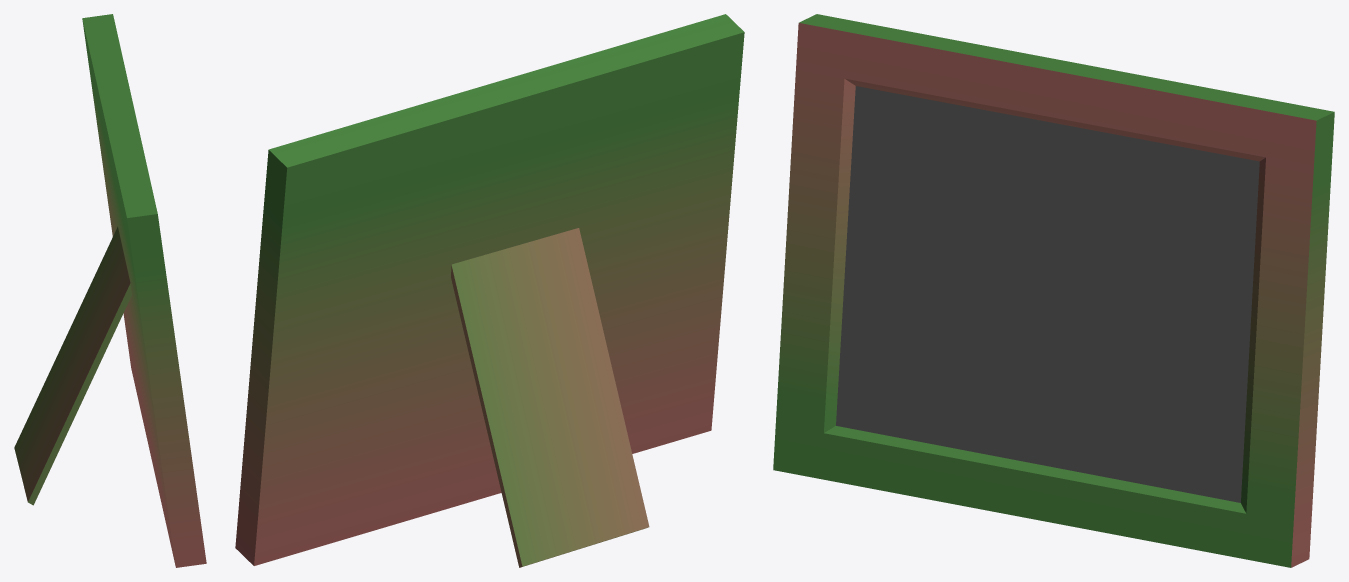
The model's file is Office_Photoframe_2.fbx.
The picture shows the model from 3 angles, left to right: view 1: azimuth 30°, elevation 25°; view 2: azimuth 150°, elevation 25°; view 3: azimuth 270°, elevation 25°; orthographic projection. The views are drawn at different scales.
Parts seen in each view (by area): view 1: Office_Photoframe_2; view 2: Office_Photoframe_2; view 3: Office_Photoframe_2.
Part boxes in pixels (x1,y1,x2,y2): Office_Photoframe_2: (14, 14, 206, 567); Office_Photoframe_2: (235, 14, 744, 567); Office_Photoframe_2: (773, 14, 1334, 567).
Bounding box in the file's own units: 19.84 × 28.12 × 33.16.
